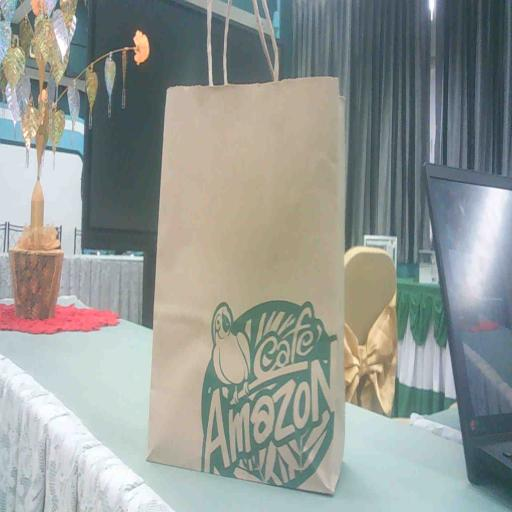bag: (144, 72, 352, 504)
